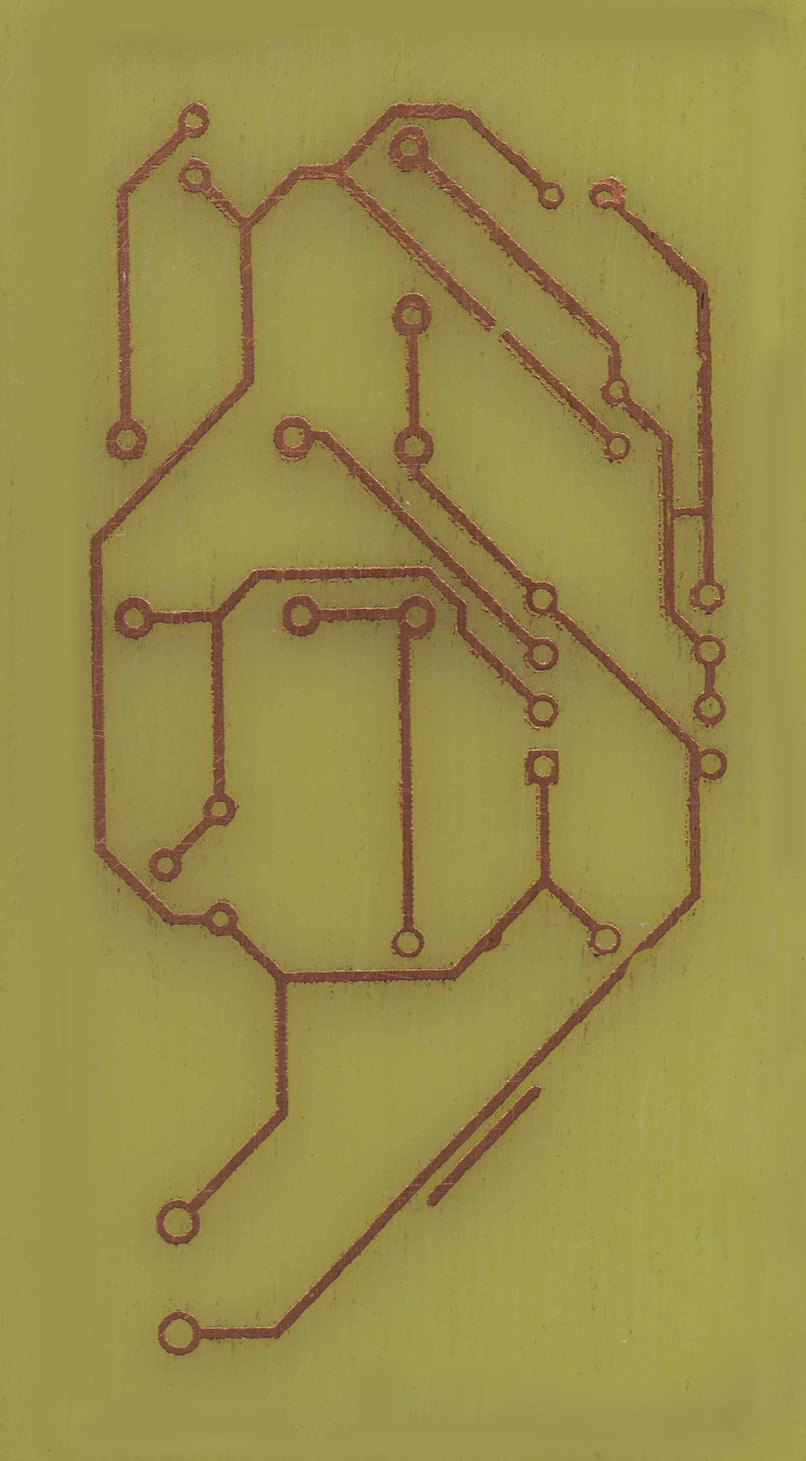mouse_bite: (623, 933, 656, 979)
open_circuit: (482, 315, 511, 341)
short: (657, 501, 716, 522)
spur: (471, 921, 507, 958)
spurious_copper: (417, 1079, 551, 1221)
